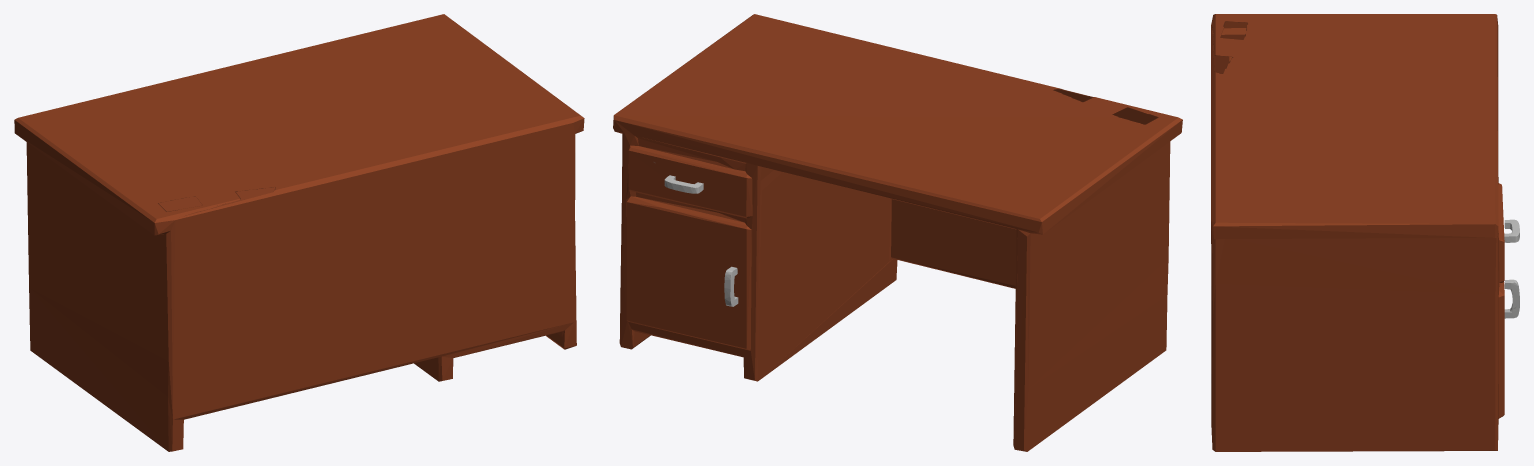
The model's file is schreibtisch.obj.
3 views of the same model, side by side, from view 1: azimuth 30°, elevation 25°; view 2: azimuth 150°, elevation 25°; view 3: azimuth 270°, elevation 25° (orthographic).
Parts seen in each view (by area): view 1: 282367_23_05_24_18_12_22_3; view 2: 282367_23_05_24_18_12_22_3; view 3: 282367_23_05_24_18_12_22_3, 282367_23_05_24_18_12_22_2, 282367_23_05_24_18_12_22_1.
Part boxes in pixels (left/top/right/bottom): 282367_23_05_24_18_12_22_3: left=14, top=14, right=584, bottom=451; 282367_23_05_24_18_12_22_3: left=613, top=14, right=1182, bottom=451; 282367_23_05_24_18_12_22_3: left=1211, top=14, right=1504, bottom=451; 282367_23_05_24_18_12_22_2: left=1504, top=279, right=1519, bottom=318; 282367_23_05_24_18_12_22_1: left=1504, top=219, right=1519, bottom=242.
Bounding box in the file's own units: 8.54 × 4.47 × 5.26.
3 materials, 3 textured.
